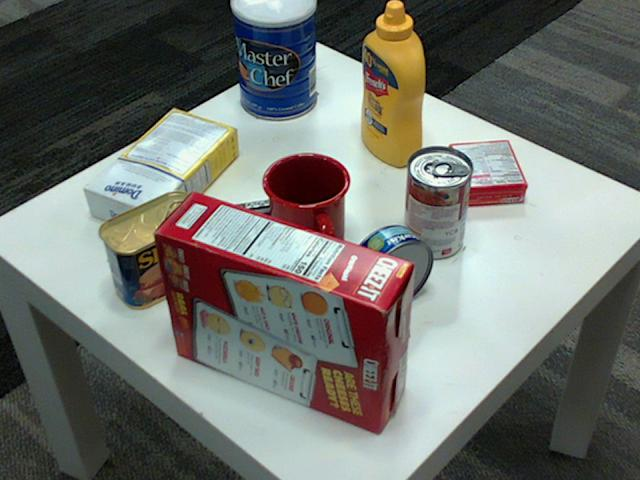cracker_box: (152, 190, 411, 431)
gelatin_box: (449, 140, 529, 204)
large_marker: (202, 193, 310, 228)
master_chef_can: (229, 0, 315, 119)
mug: (262, 149, 351, 257)
mustard_bottle: (361, 0, 424, 166)
potted_meat_can: (99, 190, 207, 309)
sugar_box: (84, 106, 239, 235)
tomato_soup_can: (403, 145, 472, 258)
tuna_fish_can: (346, 224, 433, 310)
